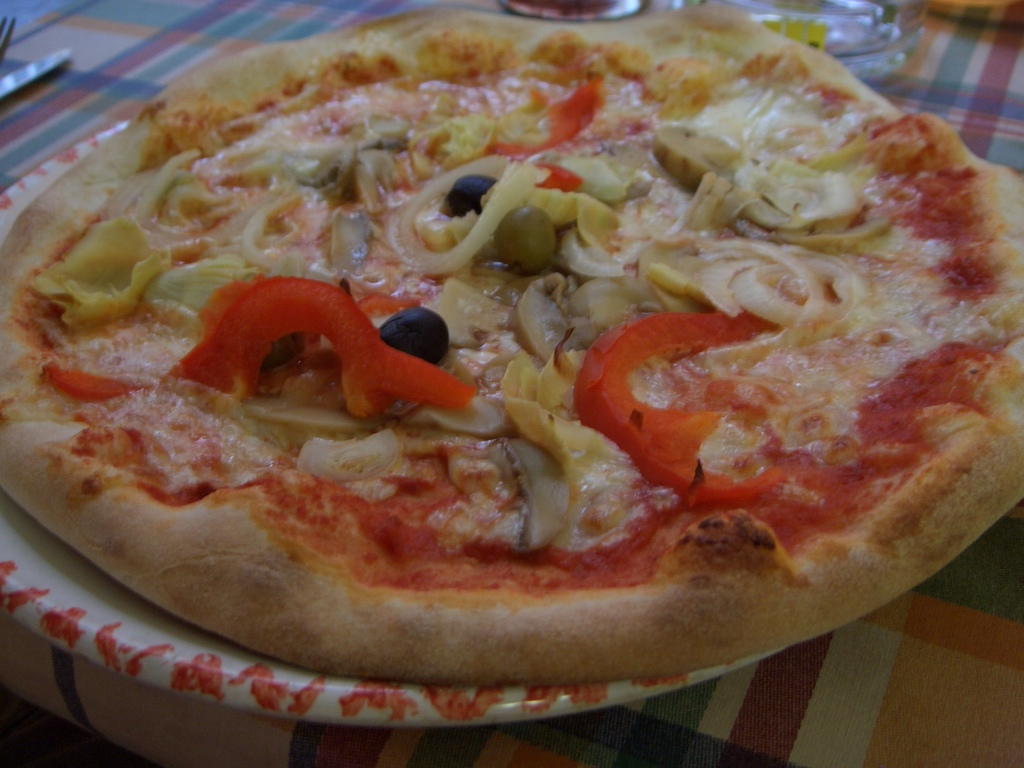Pizza: (0, 14, 1023, 685)
